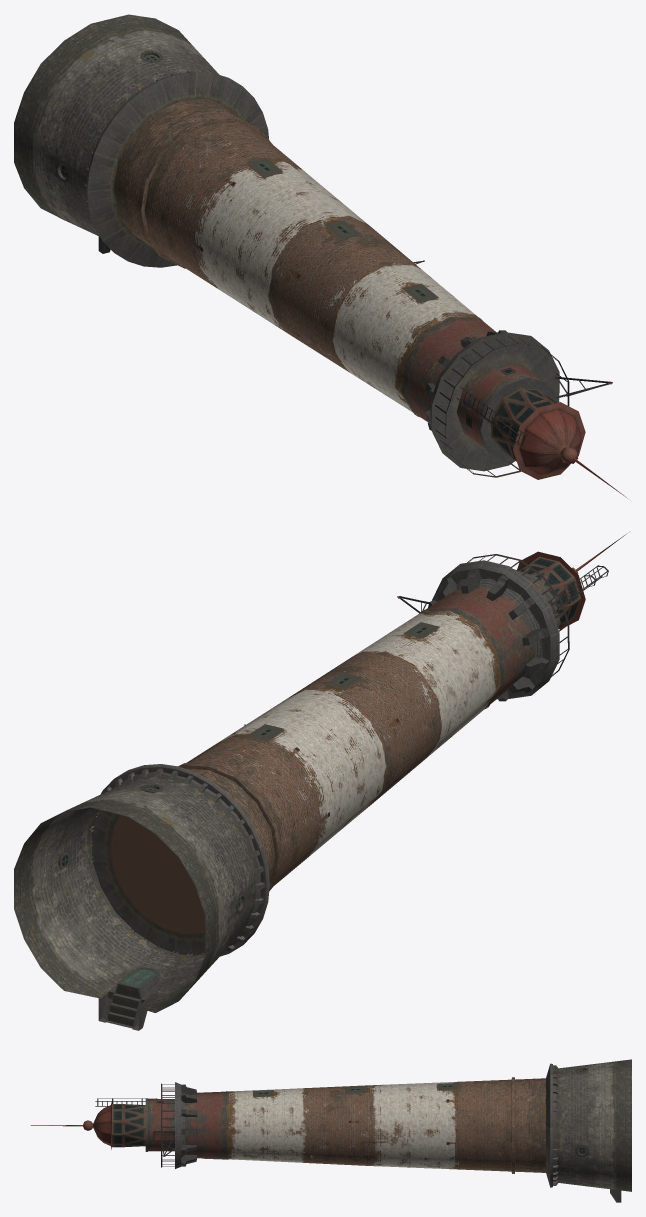
File: hd_bld_EU_050_Lighthouse.glb
3 renders of one model, top to bottom at view 1: azimuth 30°, elevation 25°; view 2: azimuth 150°, elevation 25°; view 3: azimuth 270°, elevation 25°, orthographic. The views are drawn at different scales.
Visible parts, largest first — view 1: set_0_group_0; view 2: set_0_group_0; view 3: set_0_group_0.
Boxes of the visible parts, <box> form: set_0_group_0: <box>14,14,627,498</box>; set_0_group_0: <box>14,533,627,1030</box>; set_0_group_0: <box>30,1059,631,1202</box>.
Bounding box in the file's own units: 15.11 × 15.62 × 67.08.
Materials: 1 (1 with a texture image).
